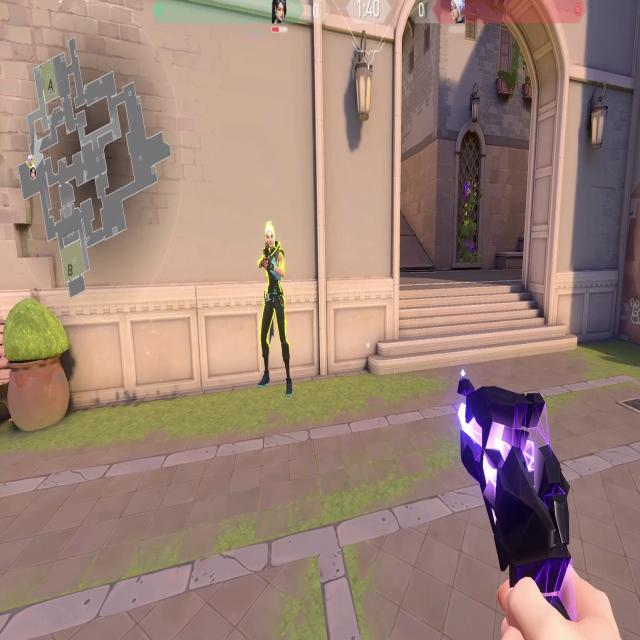head: (262, 223, 278, 250)
